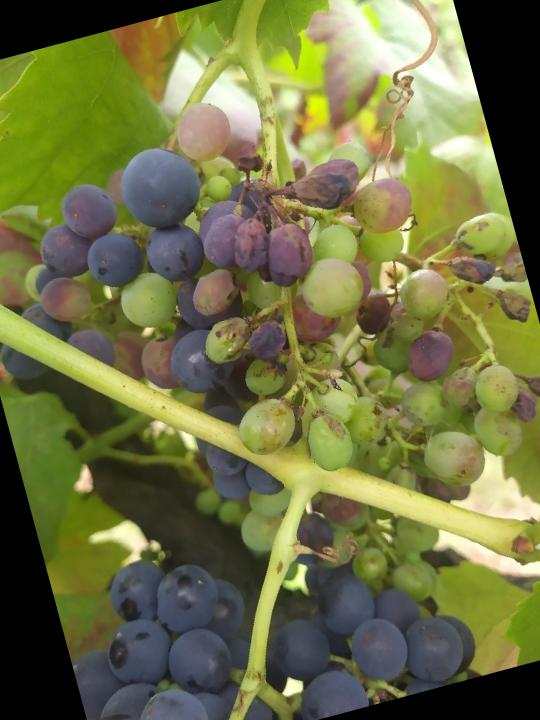grape: (0, 28, 540, 691)
